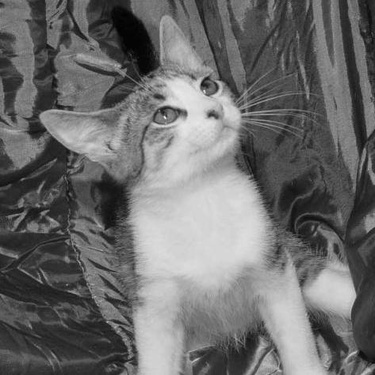cat: (30, 10, 334, 369)
